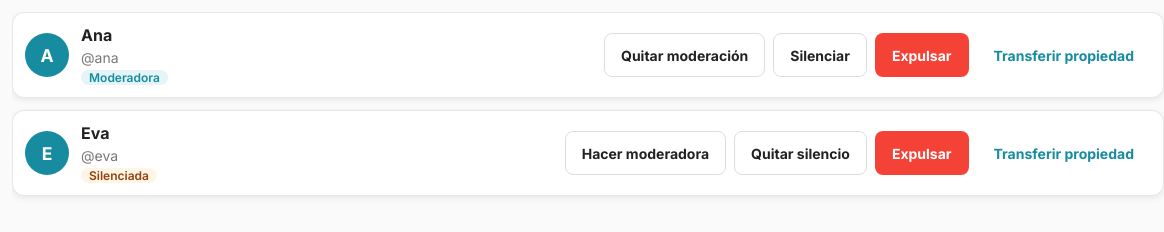
MemberAdminList › shows a clear message when the action is forbidden
expect the text "Ana" is shown: met, box [81,25,112,45]
Click the button "Silenciar". click: click(820, 55)
box: [773,33,867,77]
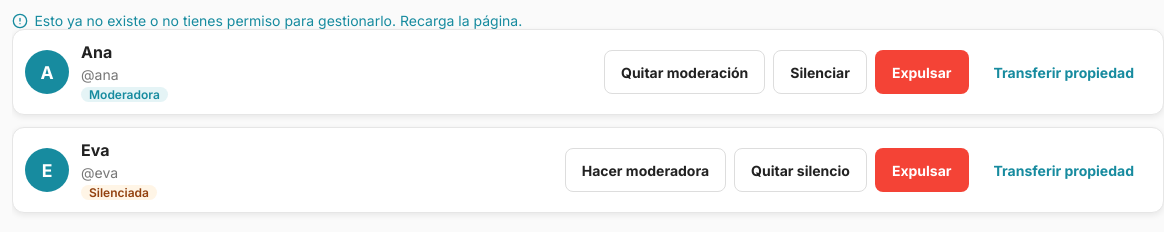
expect the text "no tienes permiso para gestionarlo" is shown: met, box [34,12,522,29]
